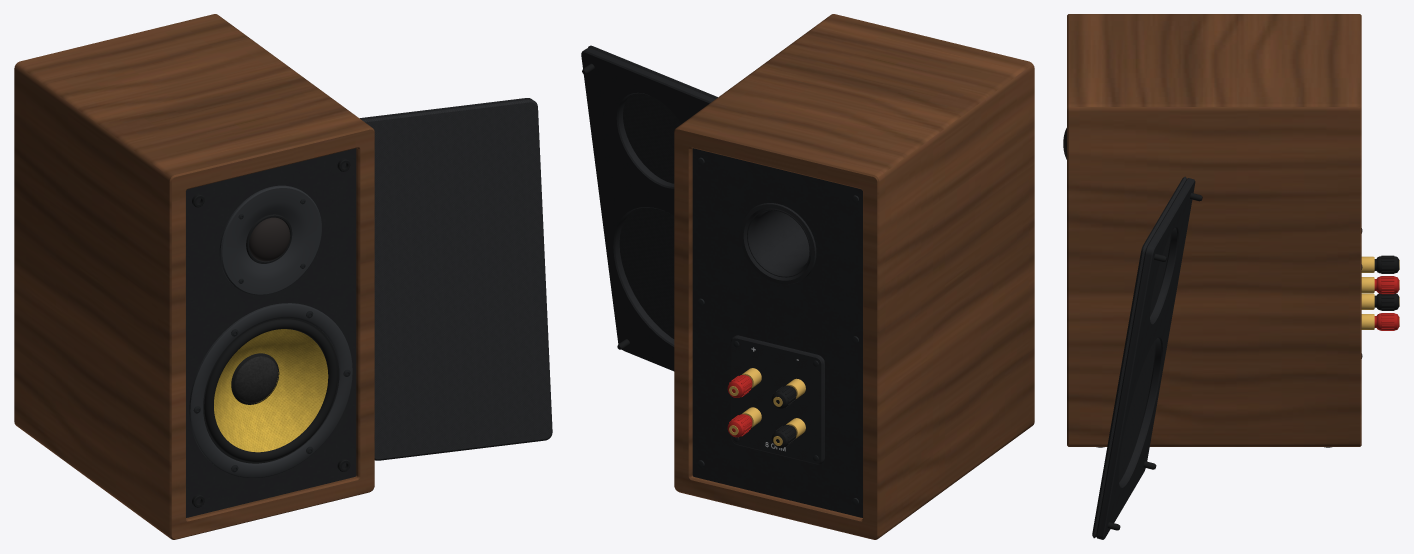
File: bookshelf-speaker.glb
The picture shows the model from 3 angles, left to right: view 1: azimuth 30°, elevation 25°; view 2: azimuth 150°, elevation 25°; view 3: azimuth 270°, elevation 25°; orthographic projection. The views are drawn at different scales.
Visible parts, largest first — view 1: Speaker, Grille; view 2: Speaker, Grille; view 3: Speaker, Grille.
Part boxes in pixels (box(x1,y1,x2,y2)): Speaker: box(14, 14, 374, 539); Grille: box(360, 98, 552, 460); Speaker: box(674, 14, 1034, 539); Grille: box(581, 45, 717, 371); Speaker: box(1063, 14, 1399, 447); Grille: box(1092, 176, 1202, 539).
Size of the model in its own units: 0.3709 by 0.322 by 0.2811.
15 materials, 7 textured.
